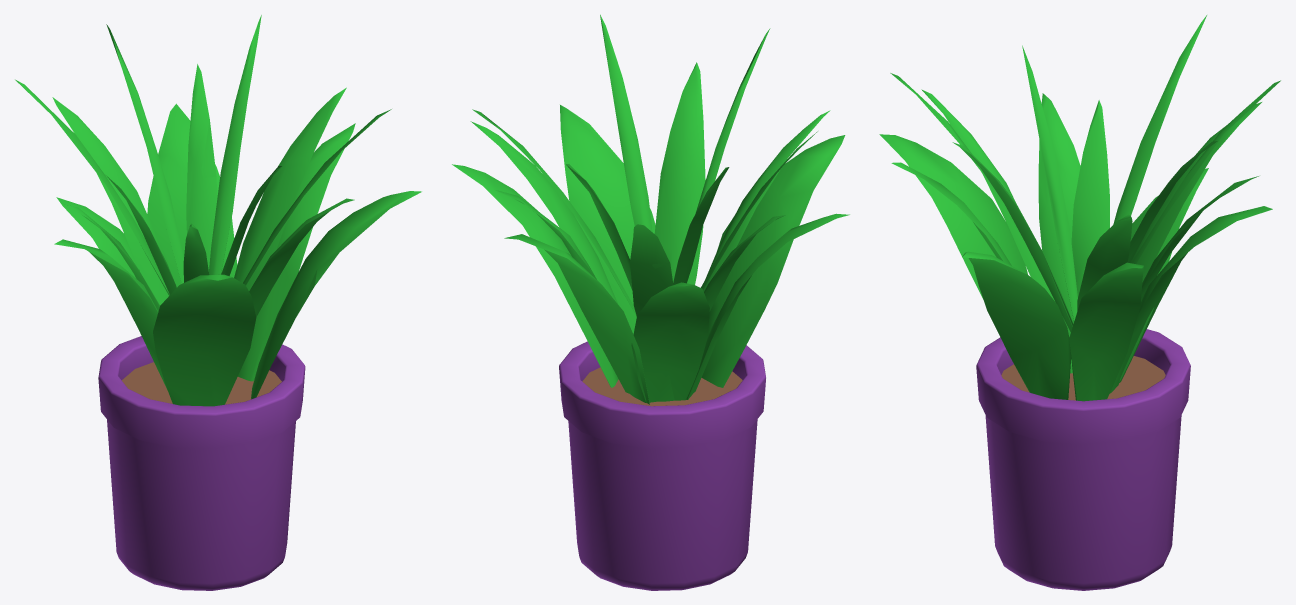
The model's file is Plant-5.fbx.
3 views of the same model, side by side, from view 1: azimuth 30°, elevation 25°; view 2: azimuth 150°, elevation 25°; view 3: azimuth 270°, elevation 25° (orthographic). The views are drawn at different scales.
Visible parts, largest first — view 1: Plant-5; view 2: Plant-5; view 3: Plant-5.
Part boxes in pixels (x1,y1,x2,y2): Plant-5: (15, 15, 421, 590); Plant-5: (452, 14, 849, 590); Plant-5: (879, 15, 1280, 590).
Bounding box in the file's own units: 0.4834 × 0.6166 × 0.4677.
